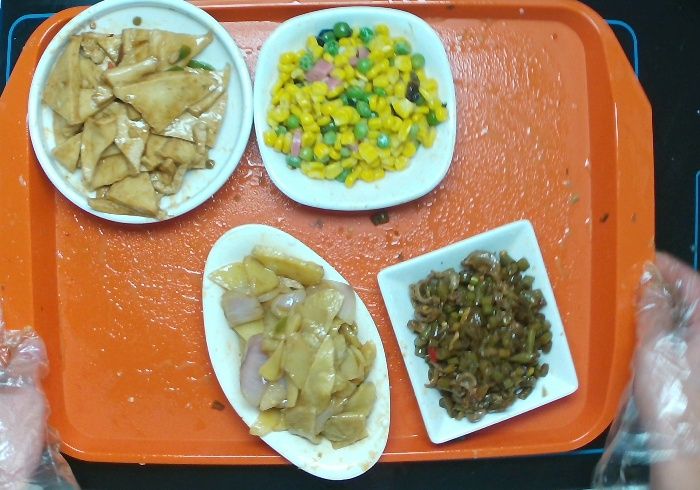HZYJPL-Si_Fang_Die: (376, 218, 583, 447)
HZYJPL-Si_Fang_Yuan_Die: (250, 3, 455, 214)
HZYJPL-Xiao_Yu_Die: (201, 220, 391, 480)
HZYJPL-Xiao_Yuan_Die: (25, 1, 253, 225)
